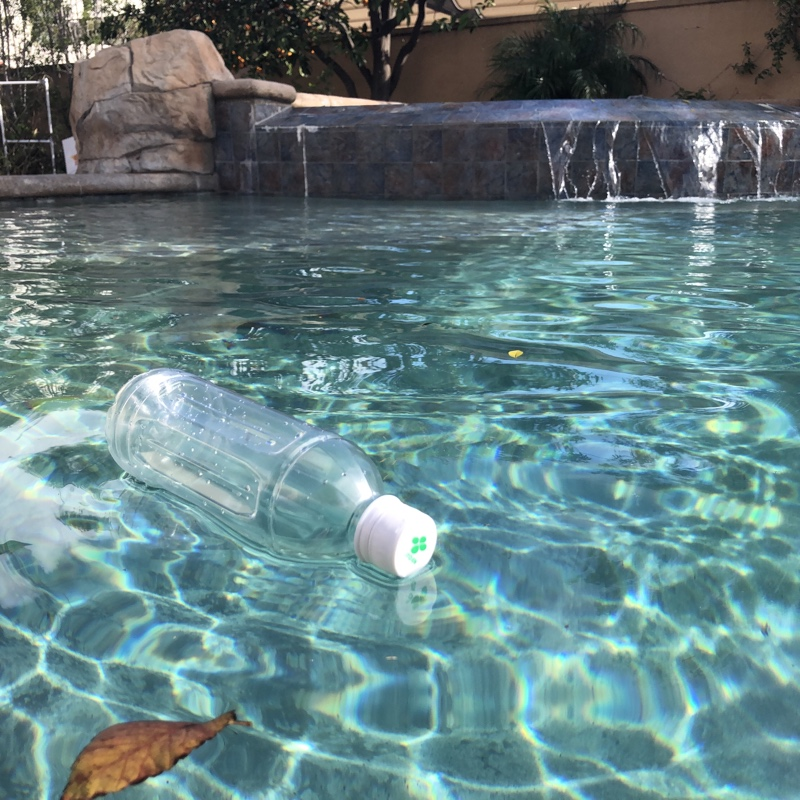Plastic Bottle: (104, 362, 440, 587)
